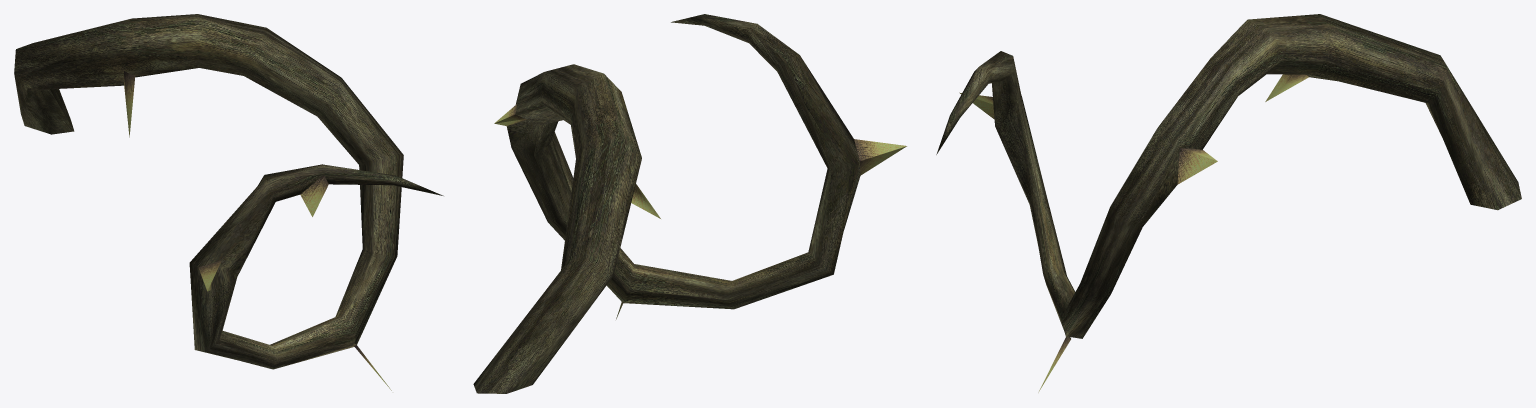
File: obj_mtthund_thorn04.fbx
3 renders of one model, left to right at view 1: azimuth 30°, elevation 25°; view 2: azimuth 150°, elevation 25°; view 3: azimuth 270°, elevation 25°, orthographic. The views are drawn at different scales.
Parts seen in each view (by area): view 1: Loft01; view 2: Loft01; view 3: Loft01.
Boxes of the visible parts, x1=… form: Loft01: x1=14, y1=14, x2=443, y2=390; Loft01: x1=473, y1=14, x2=906, y2=393; Loft01: x1=936, y1=14, x2=1521, y2=392.
Bounding box in the file's own units: 3.53 × 3.91 × 6.32.
